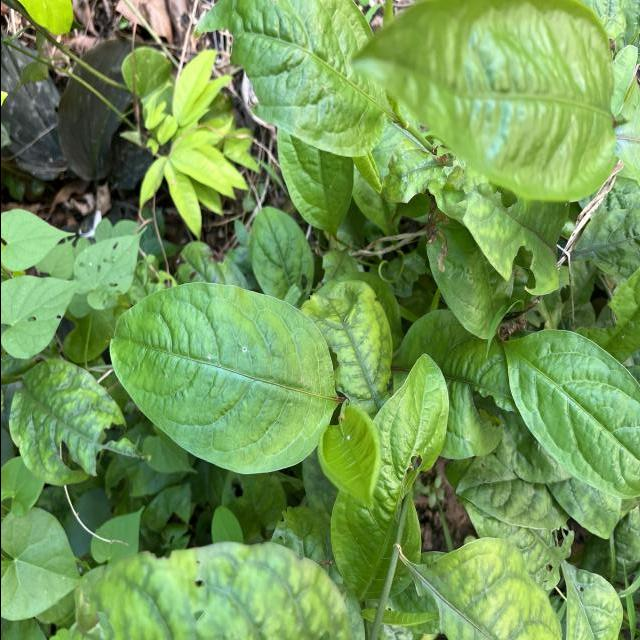Plumbago indica: (104, 277, 344, 478), (196, 0, 390, 163), (500, 321, 640, 496), (7, 352, 122, 485)
